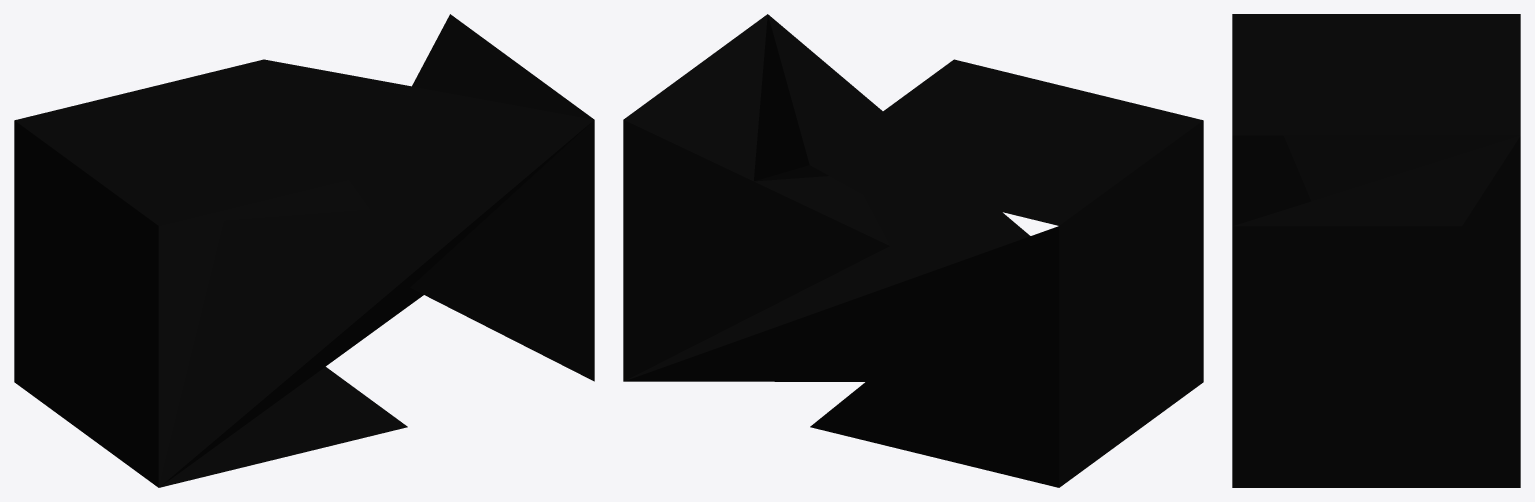
The model's file is Camera.glb.
3 renders of one model, left to right at view 1: azimuth 30°, elevation 25°; view 2: azimuth 150°, elevation 25°; view 3: azimuth 270°, elevation 25°, orthographic.
Visible parts, largest first — view 1: Camera; view 2: Camera; view 3: Camera.
Boxes of the visible parts, x1,y1,x2,y2 form: Camera: [14, 14, 594, 487]; Camera: [623, 14, 1203, 487]; Camera: [1232, 14, 1520, 487].
Size of the model in its own units: 55.77 by 32.03 by 32.
1 material, 1 textured.
